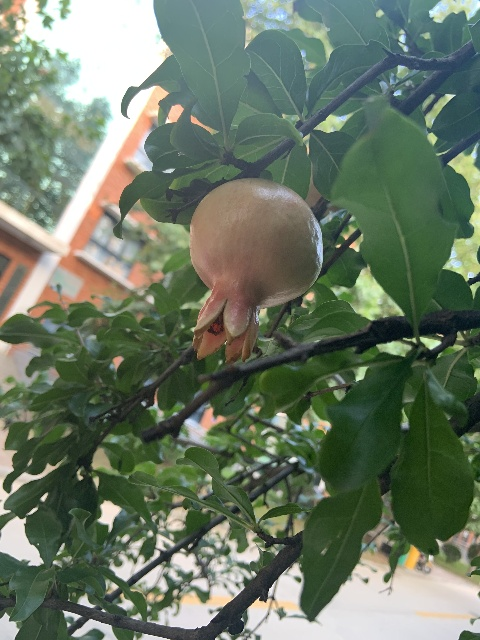mid-growth: (188, 177, 320, 364)
